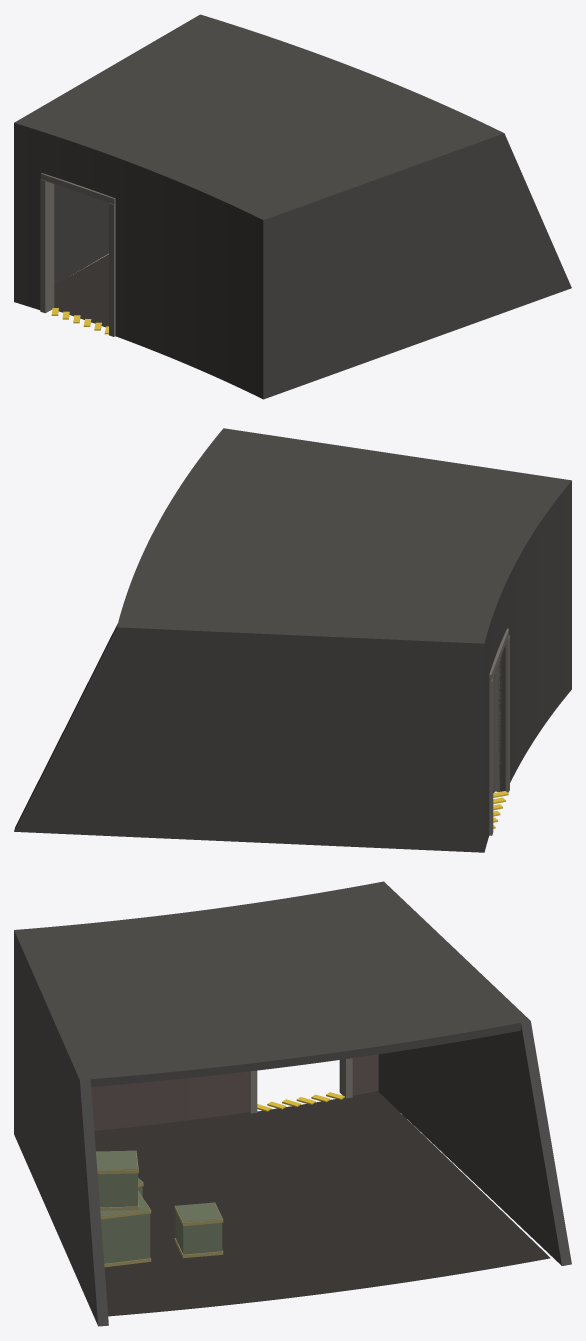
The model's file is black_market_room.glb.
3 views of the same model, one above another, from view 1: azimuth 30°, elevation 25°; view 2: azimuth 150°, elevation 25°; view 3: azimuth 270°, elevation 25° (orthographic). The views are drawn at different scales.
Visible parts, largest first — view 1: Walls, Ceiling, DoorFrame, Floor; view 2: Walls, Ceiling, DoorFrame; view 3: Ceiling, Floor, Walls, WallsInside, Crates, CrateBands, DoorFrame.
Boxes of the visible parts, x1,y1,x2,y2 form: Walls: (14,14,571,399); Ceiling: (14,15,504,226); DoorFrame: (40,173,115,336); Floor: (54,254,108,327); Walls: (14,428,571,852); Ceiling: (117,428,571,651); DoorFrame: (489,628,509,835); Ceiling: (15,882,528,1086); Floor: (94,1091,550,1316); Walls: (14,881,571,1326); WallsInside: (91,1054,378,1130); Crates: (96,1150,222,1263); CrateBands: (97,1150,223,1267); DoorFrame: (249,1058,352,1113).
Bounding box in the file's own units: 7.88 × 3.12 × 7.72.
